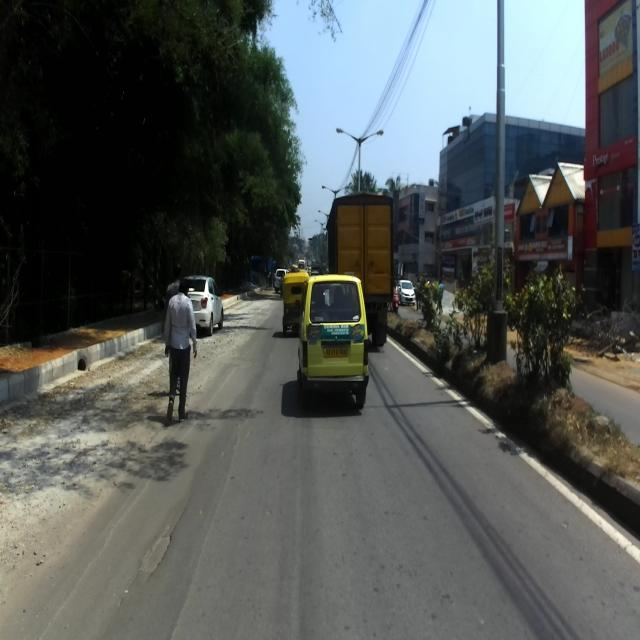car: (295, 272, 369, 412), (180, 274, 223, 336)
truck: (326, 192, 394, 346)
